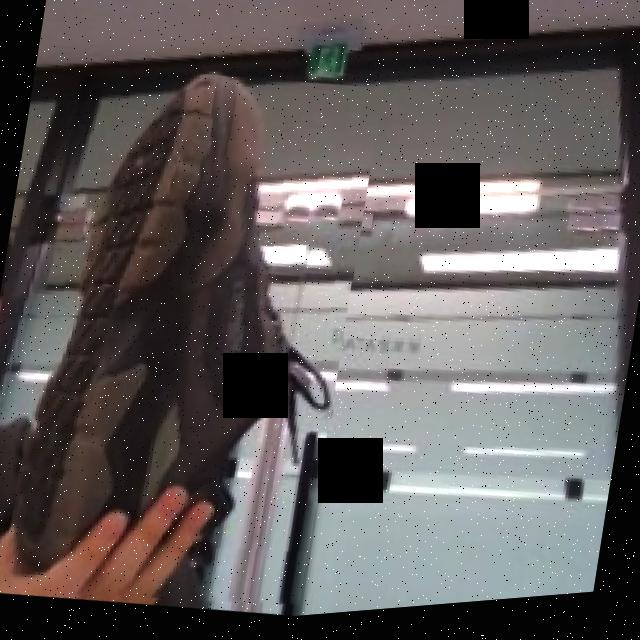shoe: (1, 47, 384, 639)
